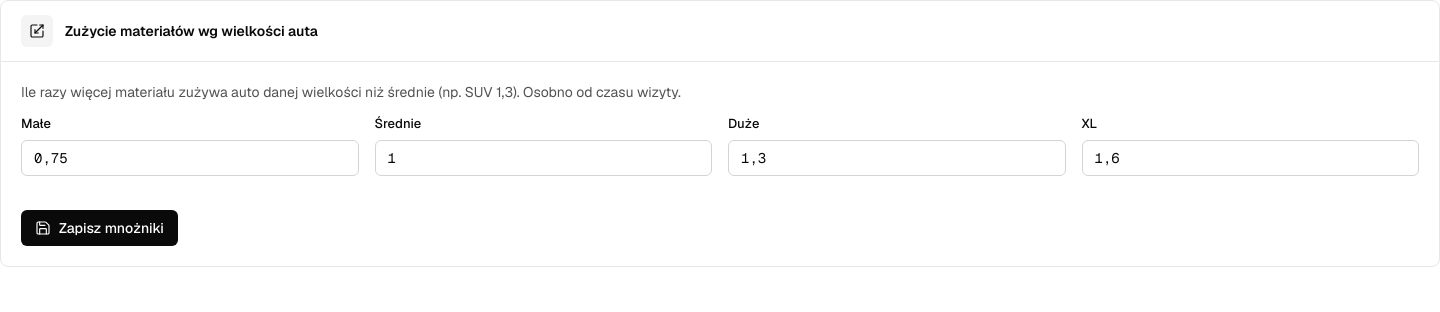
Test: SizeFactorsSettings › refuses a bad factor and is read-only for staff
Later steps or results of the test are not shown.
Replace the text in the field showing "1,6" with "9" at (1250, 158), box 1082,140 -> 1419,176
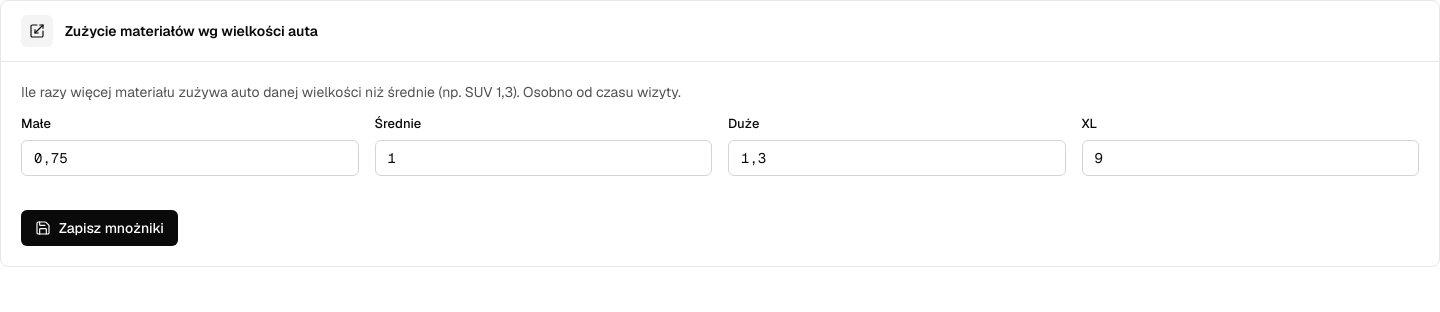
Click the button "Zapisz mnożniki" at (99, 228), box 21,210 -> 178,246
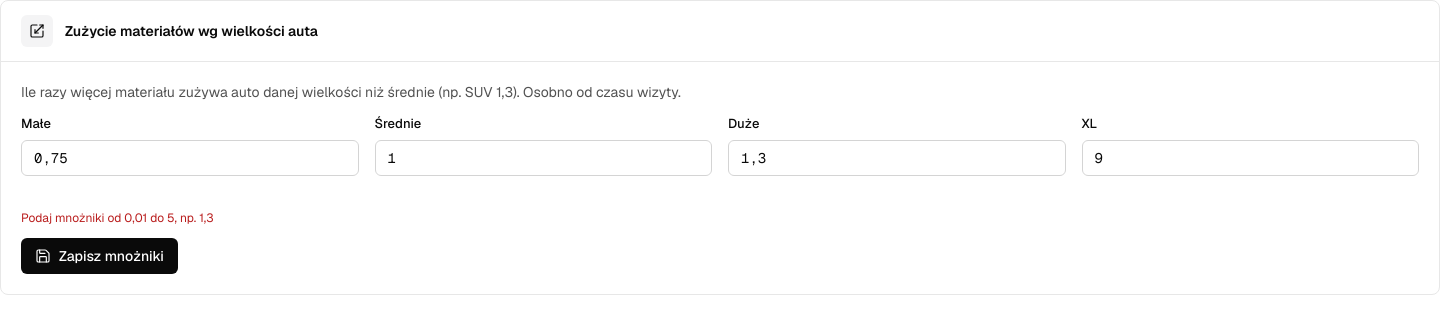
Result: the message "Podaj mnożniki od 0,01 do 5, np. 1,3" is shown at 21,210 -> 214,226
